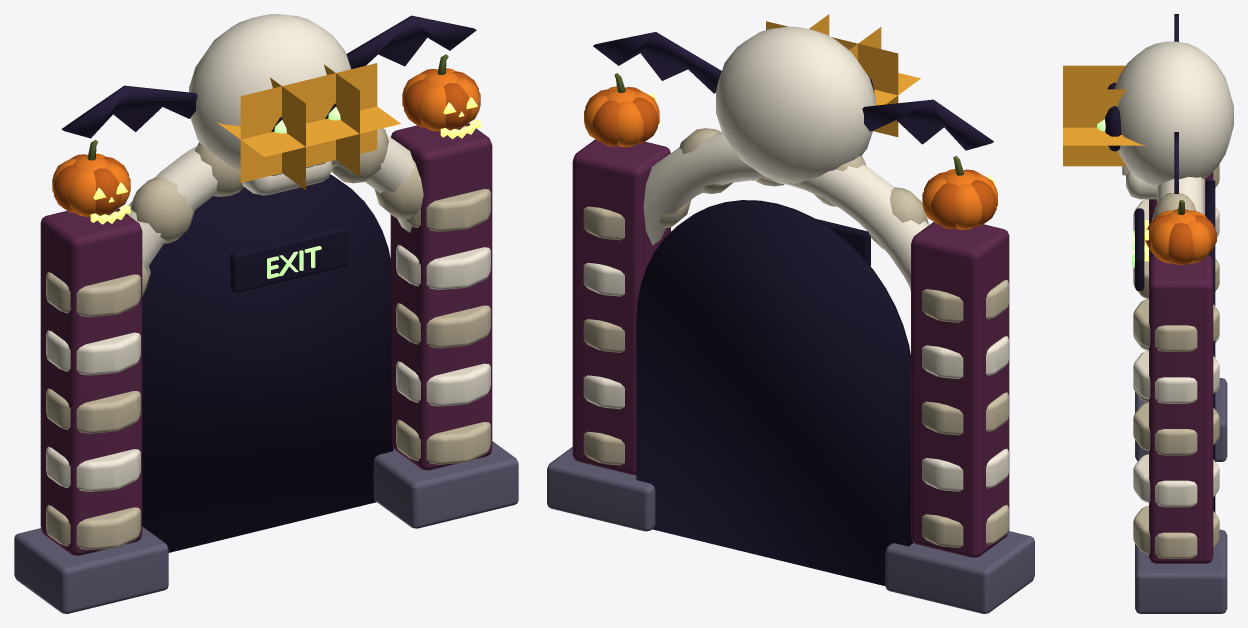
The model's file is fright_portal_arch.glb.
3 views of the same model, side by side, from view 1: azimuth 30°, elevation 25°; view 2: azimuth 150°, elevation 25°; view 3: azimuth 270°, elevation 25° (orthographic). The views are drawn at different scales.
Parts seen in each view (by area): view 1: PortalArch; view 2: PortalArch; view 3: PortalArch.
Boxes of the visible parts, <box> form: PortalArch: <box>14,14,518,613</box>; PortalArch: <box>547,14,1034,613</box>; PortalArch: <box>1063,14,1233,613</box>.
Size of the model in its own units: 5.1 by 5.61 by 1.86.
